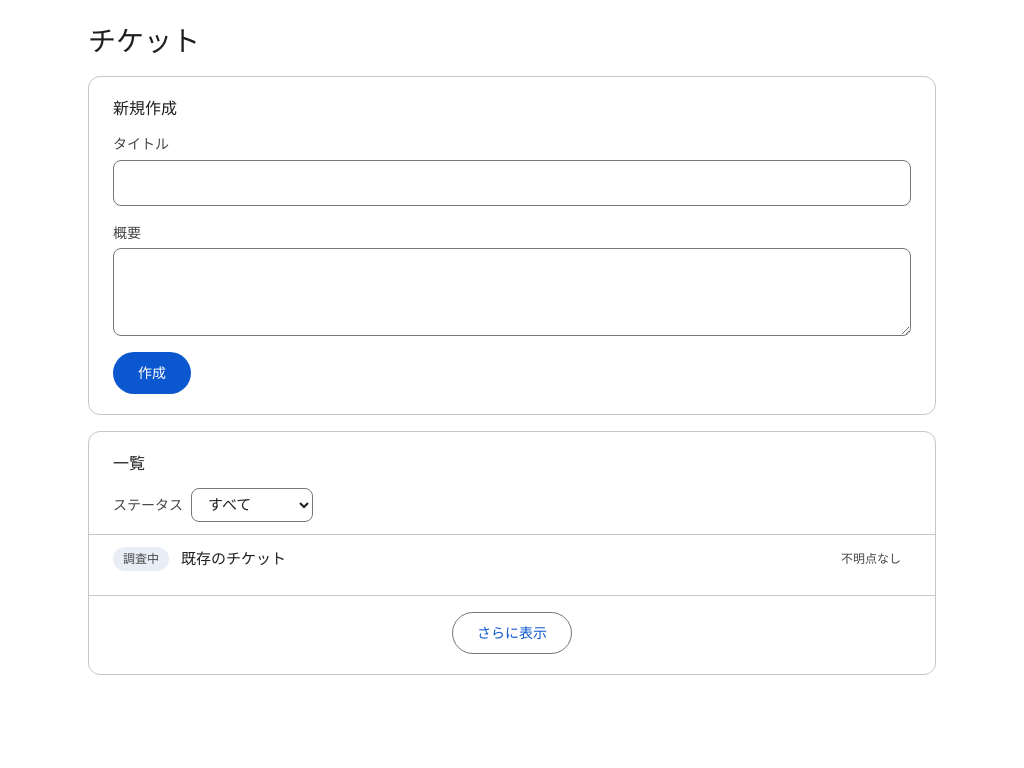
Scenario: 一覧の続き › 続きがあれば「さらに表示」を出し、押すと続きを一覧の下に足す
The image size is (1024, 768).
Step 1. Click the button "さらに表示" → (512, 633), box x1=452 y1=612 x2=572 y2=654
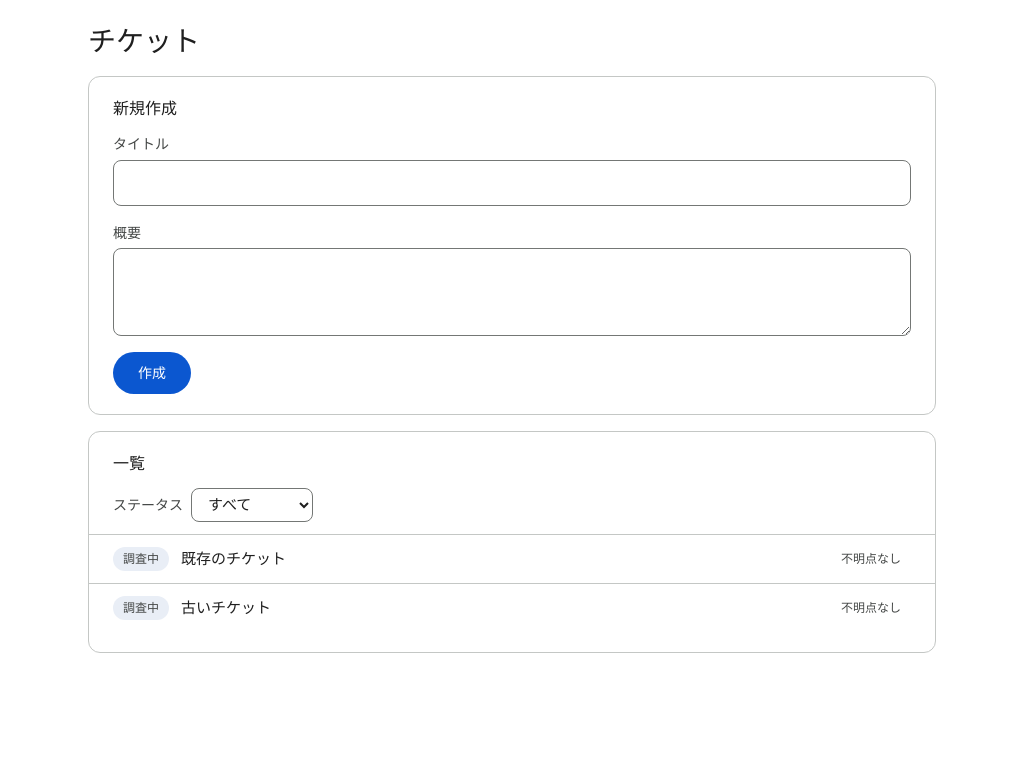
Expected: the link "古いチケット" is shown, x1=181 y1=599 x2=271 y2=617
Expected: the button "さらに表示" is gone
